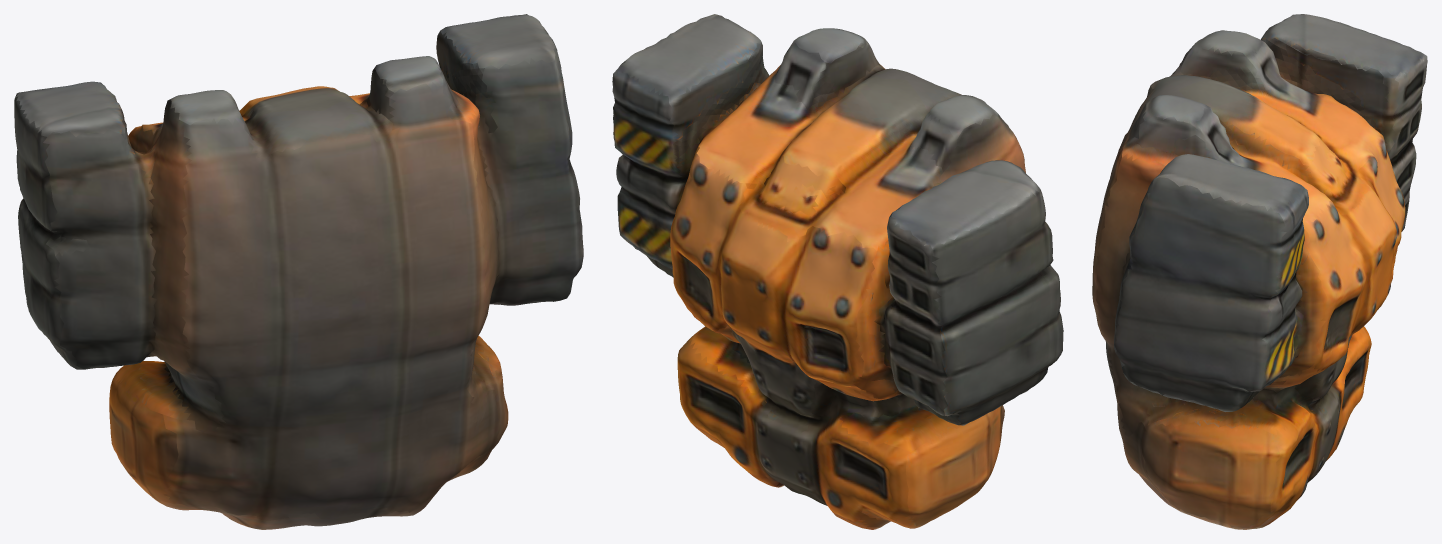
Rendered from Back_2.glb.
3 views of the same model, side by side, from view 1: azimuth 30°, elevation 25°; view 2: azimuth 150°, elevation 25°; view 3: azimuth 270°, elevation 25° (orthographic). The views are drawn at different scales.
Parts seen in each view (by area): view 1: world; view 2: world; view 3: world.
Part boxes in pixels (x1=…): world: x1=14, y1=14, x2=583, y2=529; world: x1=612, y1=14, x2=1063, y2=529; world: x1=1092, y1=14, x2=1427, y2=529.
Bounding box in the file's own units: 0.778 × 0.7016 × 0.5132.
Materials: 1 (1 with a texture image).
